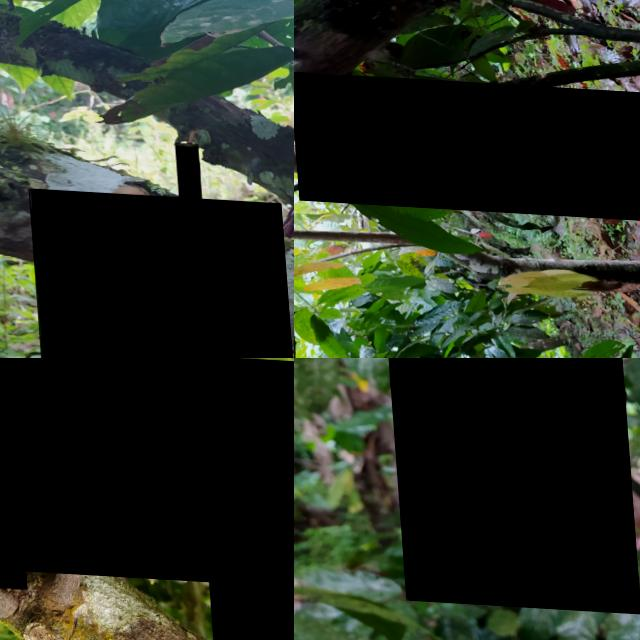Fitoftora: (294, 69, 640, 215), (0, 358, 211, 577), (187, 358, 294, 640)
Monilia: (372, 358, 632, 608)
Sana: (25, 187, 294, 358), (173, 140, 199, 199)
